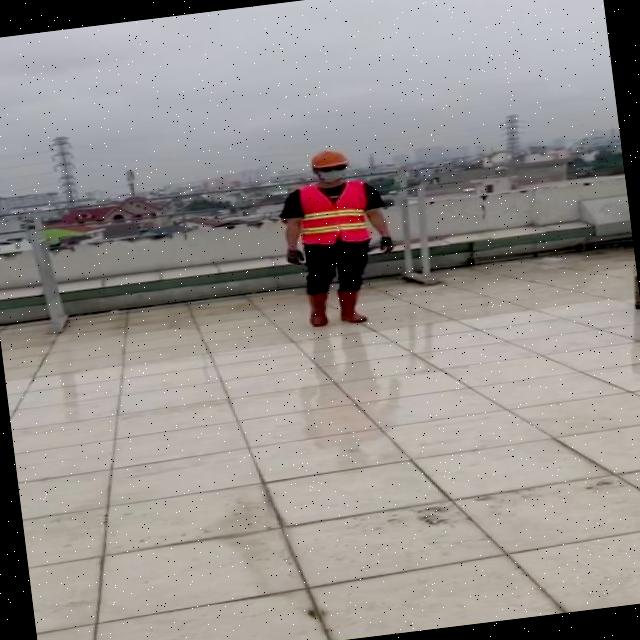boots: (334, 288, 368, 324), (302, 291, 331, 329)
helmet: (308, 146, 348, 168)
vest: (293, 178, 371, 248)
